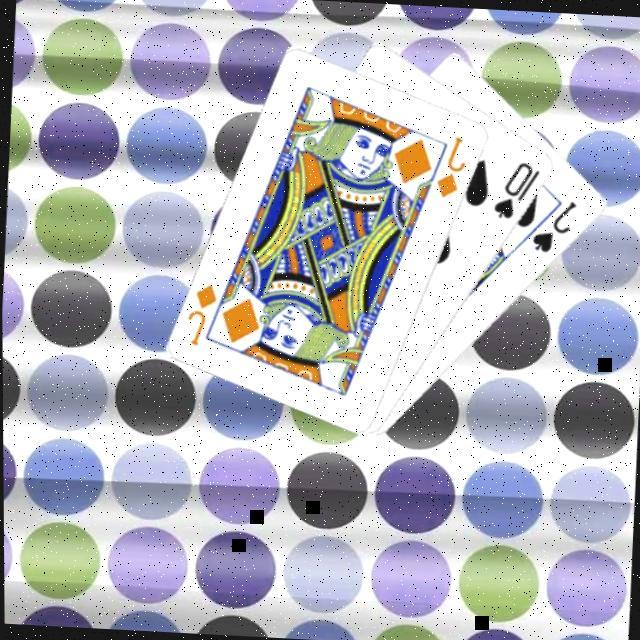10S: (491, 158, 546, 226)
JD: (433, 133, 473, 203), (183, 281, 223, 351)
JS: (529, 196, 582, 259)
